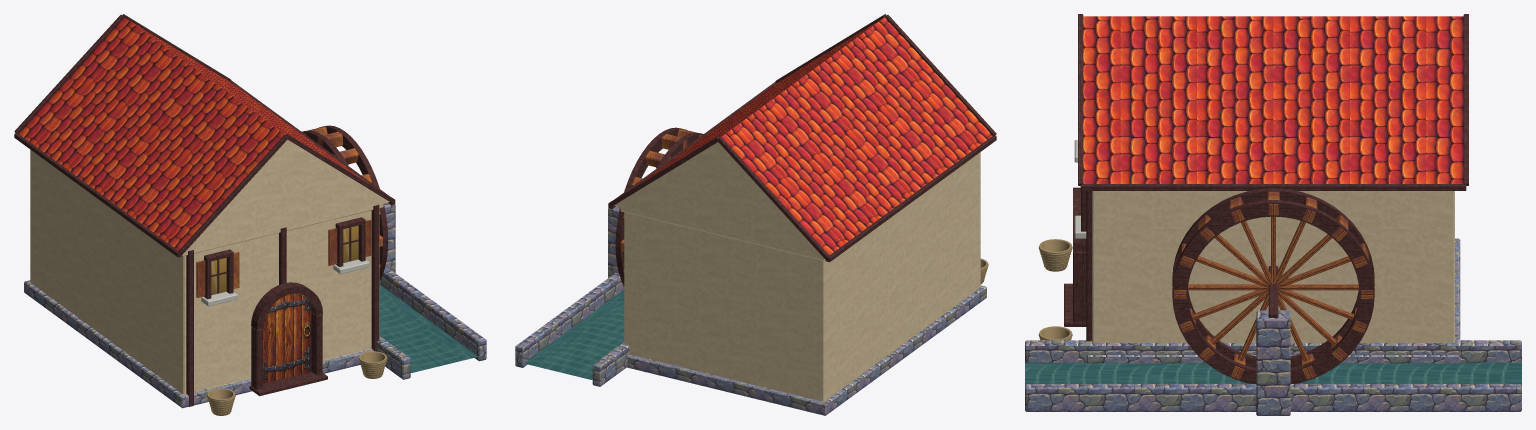
The model's file is Watermill.fbx.
The picture shows the model from 3 angles, left to right: view 1: azimuth 30°, elevation 25°; view 2: azimuth 150°, elevation 25°; view 3: azimuth 270°, elevation 25°; orthographic projection. The views are drawn at different scales.
Parts seen in each view (by area): view 1: Mill processing hall roof, Mill processing hall walls, Flowing millrace water, Heavy oak entrance.001, Mill processing hall foundation, Millrace masonry bank.001, Eaves fascia.010, Mill front timber post.002, Load-bearing arch voussoirs.001, Mill front timber post, Open waterwheel side rim.001, Gable bargeboard.016 (+14 smaller); view 2: Mill processing hall walls, Mill processing hall roof, Mill processing hall foundation, Flowing millrace water, Millrace masonry bank.001, Eaves fascia.010, Open waterwheel side rim.001, Gable bargeboard.018, Millrace masonry bank, Mill processing hall cornice, Gable bargeboard.016, Gable bargeboard.019 (+2 smaller); view 3: Mill processing hall roof, Mill processing hall walls, Millrace masonry bank.001, Flowing millrace water, Open waterwheel side rim.001, Millrace masonry bank, External wheel bearing pier, Open waterwheel side rim, Mill processing hall foundation, Eaves fascia.011, Gable bargeboard.017, Gable bargeboard.019 (+13 smaller).
Part boxes in pixels (x1,y1,x2,y2): Mill processing hall roof: (18,17,389,251); Mill processing hall walls: (30,150,379,394); Flowing millrace water: (379,285,478,372); Heavy oak entrance.001: (263,293,311,383); Mill processing hall foundation: (24,280,373,408); Millrace masonry bank.001: (380,268,486,361); Eaves fascia.010: (14,133,181,257); Mill front timber post.002: (371,205,379,351); Load-bearing arch voussoirs.001: (251,282,322,329); Mill front timber post: (186,250,193,406); Open waterwheel side rim.001: (318,125,388,280); Gable bargeboard.016: (178,134,288,254); Mill processing hall walls: (624,152,980,401); Mill processing hall roof: (614,17,992,256); Mill processing hall foundation: (627,285,986,415); Flowing millrace water: (523,290,624,379); Millrace masonry bank.001: (515,273,623,367); Eaves fascia.010: (825,135,996,262); Open waterwheel side rim.001: (615,127,686,285); Gable bargeboard.018: (718,137,829,259); Millrace masonry bank: (592,342,629,386); Mill processing hall cornice: (620,207,825,260); Gable bargeboard.016: (885,14,996,135); Gable bargeboard.019: (608,136,719,206); Mill processing hall roof: (1083,16,1463,183); Mill processing hall walls: (1092,191,1454,342); Millrace masonry bank.001: (1025,384,1521,411); Flowing millrace water: (1025,362,1521,384); Open waterwheel side rim.001: (1172,200,1374,383); Millrace masonry bank: (1025,340,1521,362); External wheel bearing pier: (1256,310,1290,415); Open waterwheel side rim: (1172,188,1374,367); Mill processing hall foundation: (1086,238,1460,363); Eaves fascia.011: (1080,184,1466,190); Gable bargeboard.017: (1078,15,1083,185); Gable bargeboard.019: (1463,15,1468,185).
Bounding box in the file's own units: 1043 × 854 × 1300.
